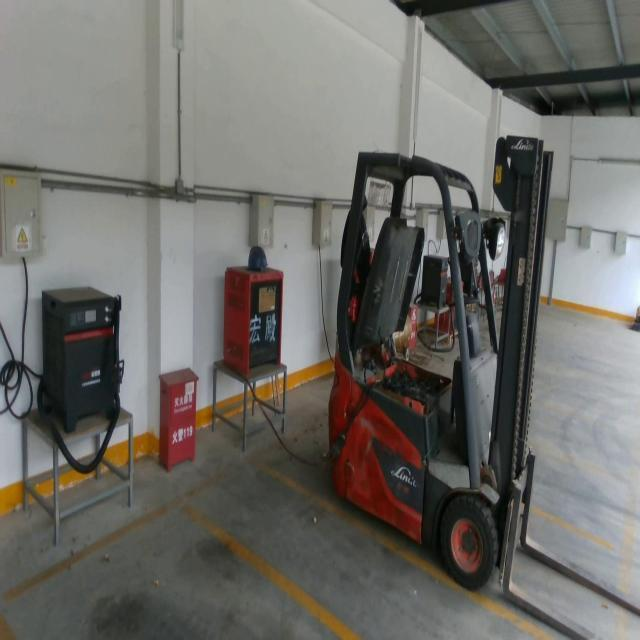forklift: (327, 132, 639, 640)
